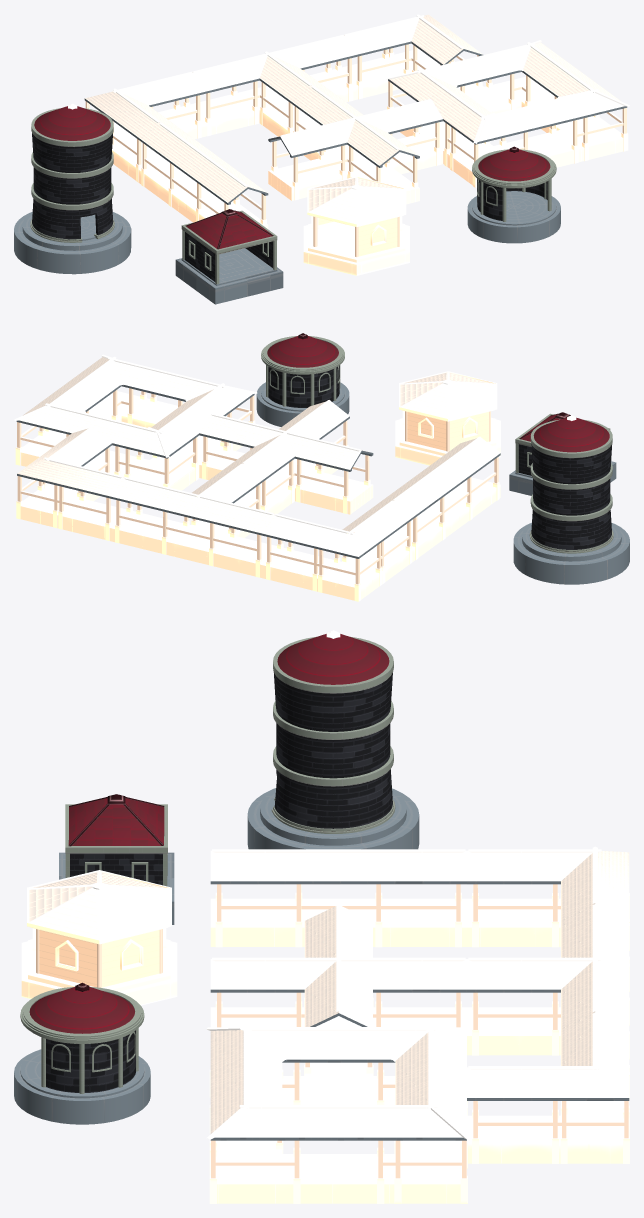
Rendered from Structures.gltf.
The picture shows the model from 3 angles, top to bottom: view 1: azimuth 30°, elevation 25°; view 2: azimuth 150°, elevation 25°; view 3: azimuth 270°, elevation 25°; orthographic projection. The views are drawn at different scales.
Parts seen in each view (by area): view 1: Walkway_6_Roof, Walkway_5_Roof, Tower_Wall, Walkway_6_Floor, Walkway_4_Roof, Tower_Floor, Walkway_5_Floor, Walkway_1_Roof, Walkway_3_Roof, Walkway_4_Floor, Pavilion_2_Floor, Pavilion_1_Floor (+29 smaller); view 2: Walkway_6_Roof, Walkway_5_Roof, Tower_Wall, Walkway_4_Roof, Walkway_6_Floor, Walkway_4_Floor, Tower_Floor, Walkway_3_Roof, Walkway_5_Floor, Walkway_3_Floor, Walkway_2_Roof, Walkway_1_Roof (+27 smaller); view 3: Walkway_6_Roof, Walkway_6_Floor, Walkway_5_Roof, Tower_Wall, Walkway_4_Roof, Walkway_1_Roof, Walkway_2_Roof, Walkway_1_Floor, Walkway_3_Roof, Pavilion_2_Roof, Walkway_2_Floor, Pavilion_3_Floor (+28 smaller).
Part boxes in pixels (left/top/right/bottom): Walkway_6_Roof: left=385, top=40, right=629, bottom=144; Walkway_5_Roof: left=268, top=85, right=443, bottom=167; Tower_Wall: left=32, top=133, right=113, bottom=239; Walkway_6_Floor: left=400, top=76, right=623, bottom=184; Walkway_4_Roof: left=192, top=35, right=355, bottom=103; Tower_Floor: left=14, top=212, right=131, bottom=274; Walkway_5_Floor: left=268, top=134, right=443, bottom=204; Walkway_1_Roof: left=140, top=122, right=268, bottom=204; Walkway_3_Roof: left=84, top=71, right=204, bottom=140; Walkway_4_Floor: left=181, top=69, right=355, bottom=136; Pavilion_2_Floor: left=303, top=221, right=409, bottom=275; Pavilion_1_Floor: left=175, top=248, right=283, bottom=304; Walkway_6_Roof: left=14, top=354, right=257, bottom=458; Walkway_5_Roof: left=199, top=400, right=373, bottom=481; Tower_Wall: left=531, top=444, right=612, bottom=549; Walkway_4_Roof: left=112, top=463, right=274, bottom=535; Walkway_6_Floor: left=20, top=391, right=242, bottom=490; Walkway_4_Floor: left=112, top=511, right=285, bottom=578; Tower_Floor: left=513, top=522, right=629, bottom=584; Walkway_3_Roof: left=263, top=500, right=413, bottom=558; Walkway_5_Floor: left=199, top=448, right=373, bottom=514; Walkway_3_Floor: left=263, top=541, right=413, bottom=600; Walkway_2_Roof: left=17, top=426, right=123, bottom=498; Walkway_1_Roof: left=374, top=436, right=500, bottom=518; Walkway_6_Roof: left=206, top=1024, right=471, bottom=1140; Walkway_6_Floor: left=210, top=1076, right=466, bottom=1203; Walkway_5_Roof: left=210, top=904, right=466, bottom=1026; Tower_Wall: left=274, top=673, right=392, bottom=828; Walkway_4_Roof: left=467, top=904, right=629, bottom=1028; Walkway_1_Roof: left=210, top=849, right=466, bottom=884; Walkway_2_Roof: left=467, top=1012, right=629, bottom=1100; Walkway_1_Floor: left=210, top=898, right=466, bottom=946; Walkway_3_Roof: left=467, top=846, right=629, bottom=920; Pavilion_2_Roof: left=29, top=871, right=169, bottom=939; Walkway_2_Floor: left=467, top=1101, right=629, bottom=1163; Pavilion_3_Floor: left=14, top=1049, right=150, bottom=1124.
Size of the model in its own units: 55.99 by 13.79 by 36.03.
Materials: 2 (1 with a texture image).
